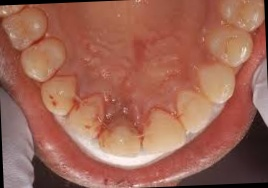Tooth Discoloration: (96, 112, 145, 149), (61, 95, 82, 120)
